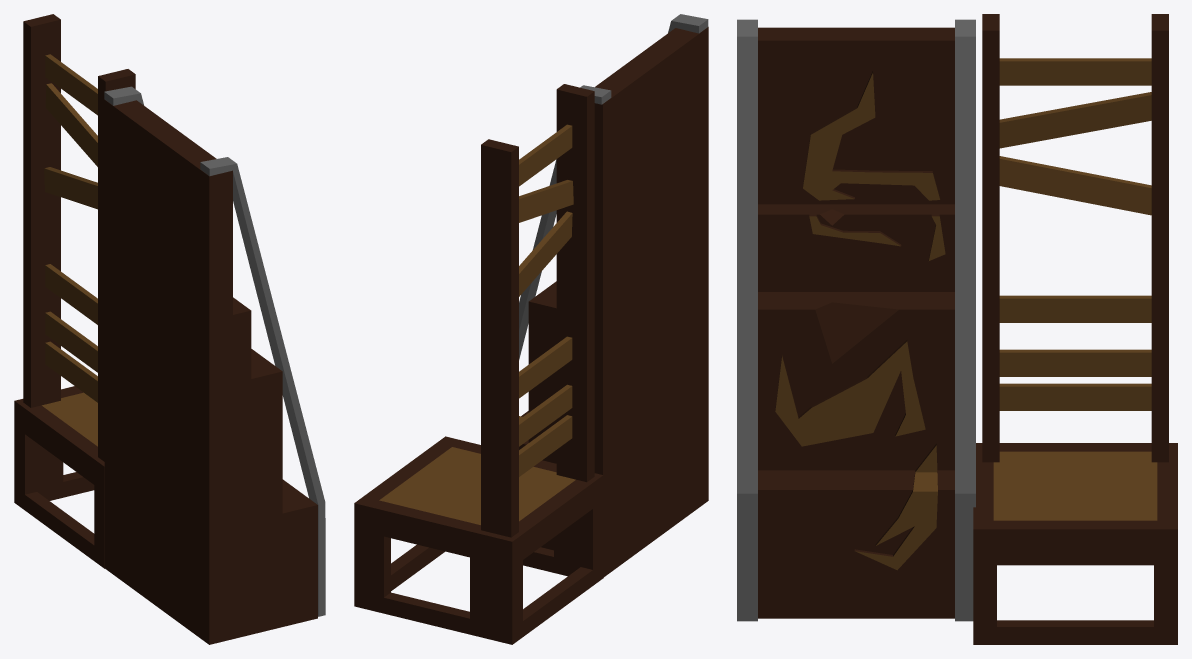
The model's file is Buildstand_Climbing.fbx.
3 views of the same model, side by side, from view 1: azimuth 30°, elevation 25°; view 2: azimuth 150°, elevation 25°; view 3: azimuth 270°, elevation 25° (orthographic). The views are drawn at different scales.
Visible parts, largest first — view 1: Swingbar_Holder, Climbing_Holder, Floor_Holder, Floor, Climbing, Climbing.002, Climbing.001; view 2: Swingbar_Holder, Climbing_Holder, Floor_Holder, Floor, Climbing.001, Climbing, Climbing.002; view 3: Swingbar_Holder, Climbing_Holder, Floor, Floor_Holder, Climbing, Climbing.002, Climbing.001.
Part boxes in pixels (x1=…): Swingbar_Holder: x1=104, y1=86, x2=325, y2=644; Climbing_Holder: x1=23, y1=14, x2=135, y2=461; Floor_Holder: x1=14, y1=411, x2=104, y2=568; Floor: x1=14, y1=386, x2=104, y2=476; Climbing: x1=45, y1=341, x2=97, y2=402; Climbing.002: x1=45, y1=311, x2=97, y2=372; Climbing.001: x1=45, y1=264, x2=97, y2=324; Swingbar_Holder: x1=519, y1=14, x2=708, y2=577; Climbing_Holder: x1=481, y1=84, x2=594, y2=537; Floor_Holder: x1=354, y1=485, x2=603, y2=644; Floor: x1=354, y1=436, x2=603, y2=551; Climbing.001: x1=519, y1=336, x2=572, y2=398; Climbing: x1=519, y1=415, x2=572, y2=476; Climbing.002: x1=519, y1=384, x2=572, y2=446; Swingbar_Holder: x1=737, y1=19, x2=975, y2=621; Climbing_Holder: x1=982, y1=14, x2=1168, y2=462; Floor: x1=973, y1=443, x2=1177, y2=540; Floor_Holder: x1=973, y1=540, x2=1177, y2=644; Climbing: x1=999, y1=383, x2=1151, y2=410; Climbing.002: x1=999, y1=349, x2=1151, y2=376; Climbing.001: x1=999, y1=295, x2=1151, y2=322.
Bounding box in the file's own units: 5.41 × 15.97 × 11.66.
